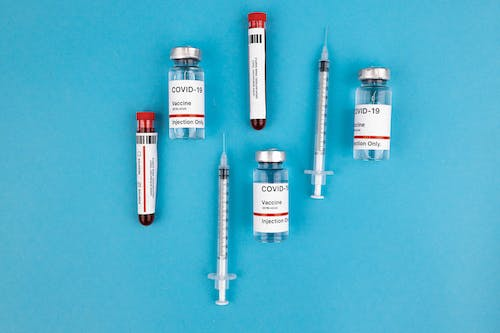blood: (135, 214, 159, 227), (249, 119, 268, 132)
